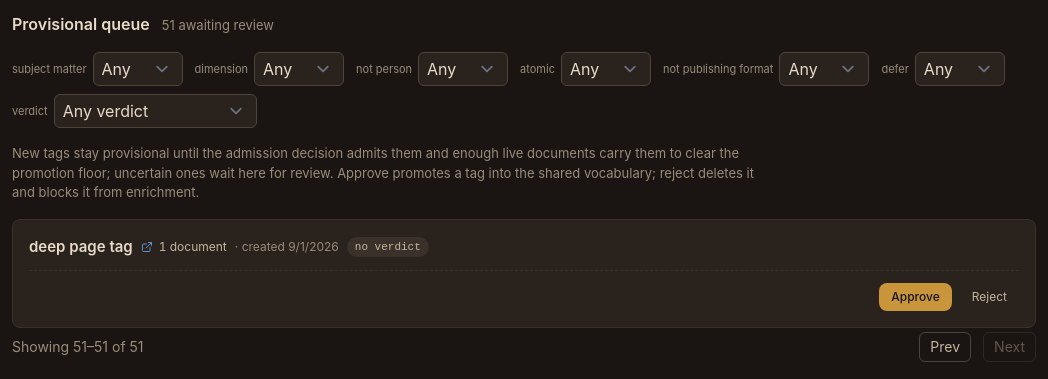
Test: ProvisionalReview filters and paging › clamps to the last page when a reject empties the current page
Expected: the text "deep page tag" is shown, [29, 236, 133, 258]
Click the button "Reject": (989,297) [960, 283, 1019, 311]
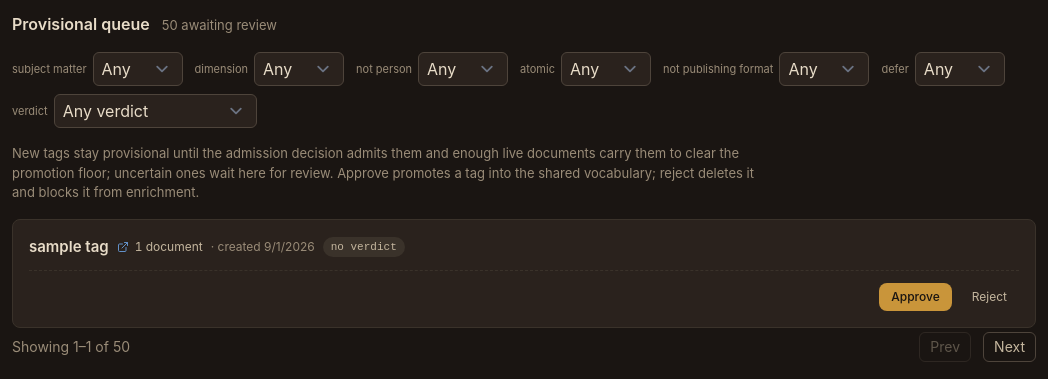
Now the text "sample tag" is shown, box [29, 236, 109, 258]
Now the text "deep page tag" is gone
